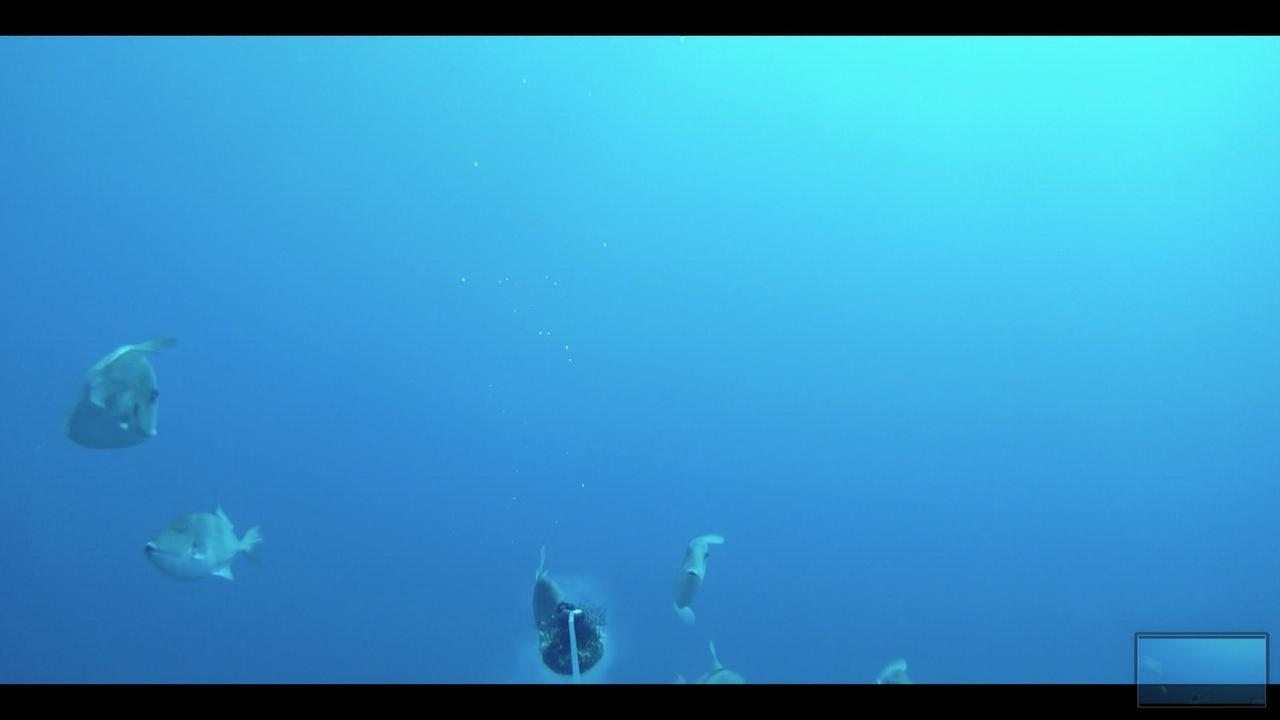balistes: (55, 331, 172, 453), (142, 501, 272, 580), (667, 527, 725, 621)
